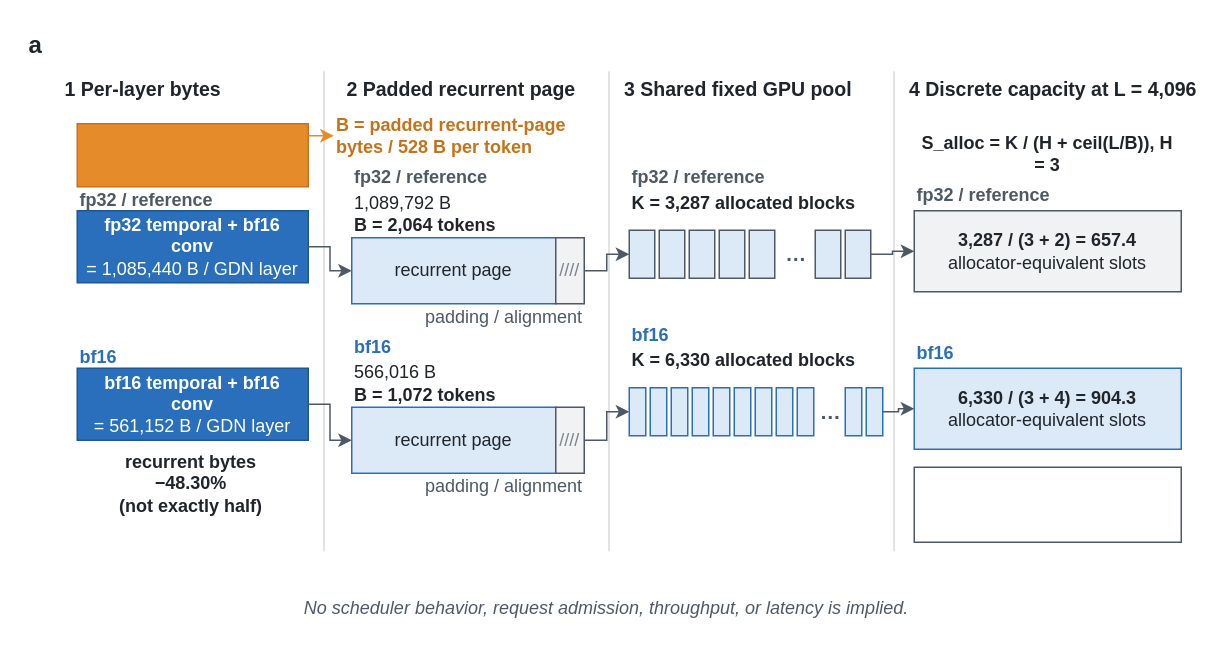
Some shapes in this 1223 by 651 pixel diagram are drawn without their labels. Each missing label, with the centre of its shape:
"int4 KV = 528 B / token / GQA layer" goes at (192,154).
"These are allocator-equivalent slots, not concurrent requests." goes at (1047,504).
